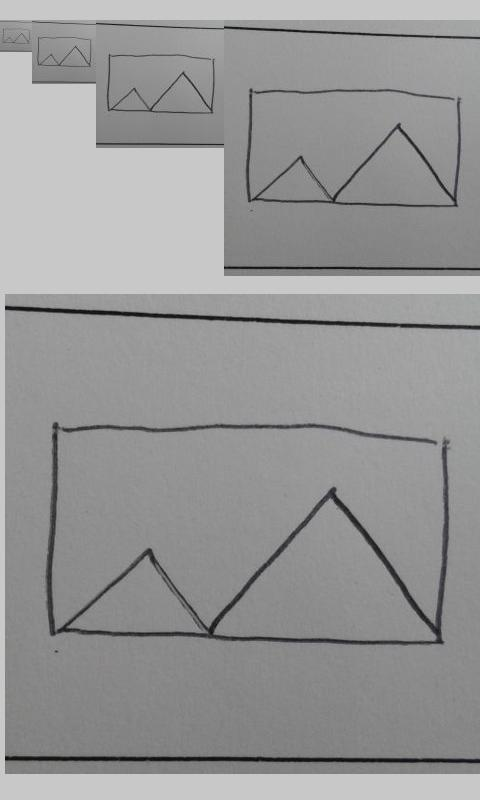image_view: (42, 417, 453, 653), (242, 84, 464, 212), (106, 53, 216, 115), (36, 36, 92, 68), (2, 27, 31, 45)
